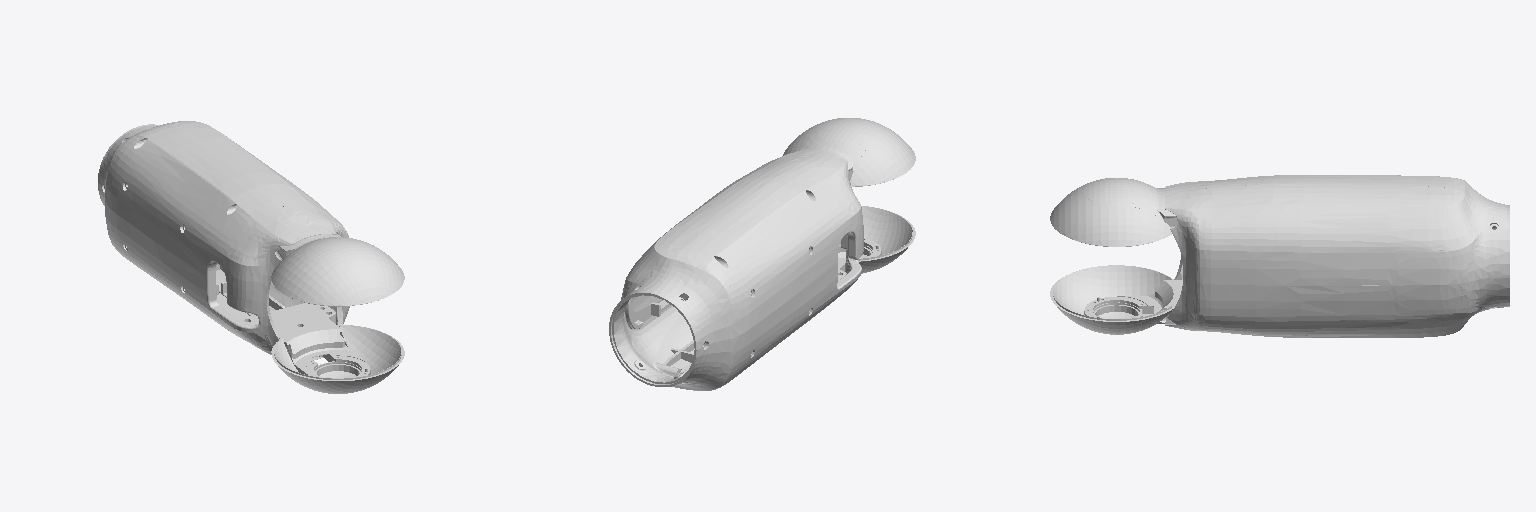
3 views of the same model, side by side, from view 1: azimuth 30°, elevation 25°; view 2: azimuth 150°, elevation 25°; view 3: azimuth 270°, elevation 25° (orthographic).
Parts seen in each view (by area): view 1: astribot_arm_link_5; view 2: astribot_arm_link_5; view 3: astribot_arm_link_5.
Boxes of the visible parts, box(x1,y1,x2,y2) form: astribot_arm_link_5: box(98, 121, 404, 393); astribot_arm_link_5: box(609, 118, 915, 390); astribot_arm_link_5: box(1050, 175, 1509, 337).
Size of the model in its own units: 0.0786 by 0.0887 by 0.2544.